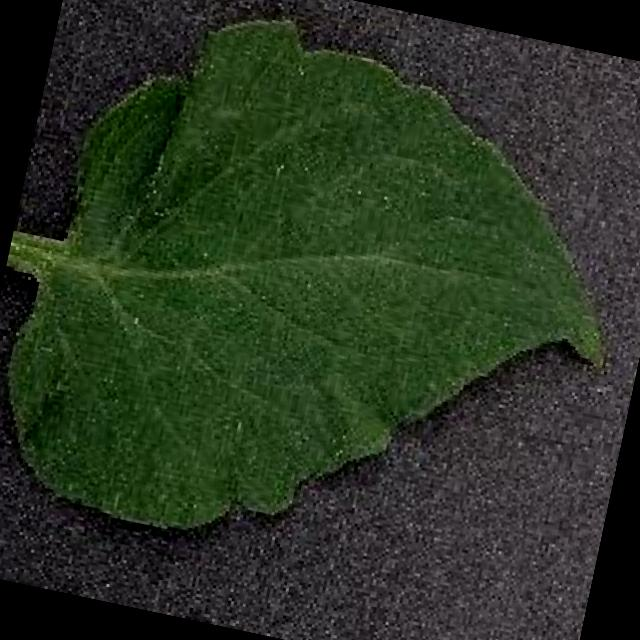healthy: (5, 18, 608, 533)
